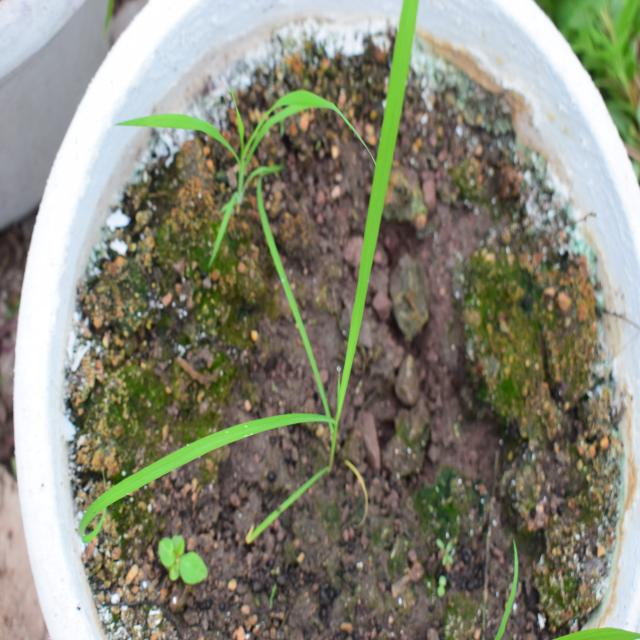barnyard_grass: (66, 29, 445, 533)
